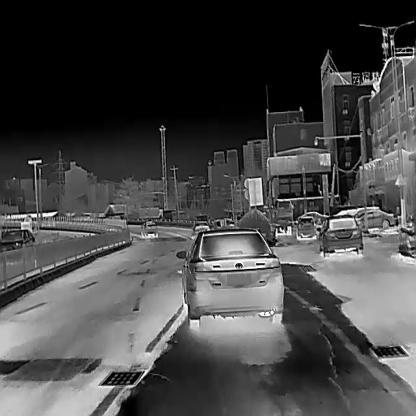car: (183, 228, 284, 329), (317, 215, 364, 257), (345, 208, 397, 229), (0, 229, 35, 250), (270, 198, 294, 220), (295, 216, 317, 237), (140, 220, 158, 238)
